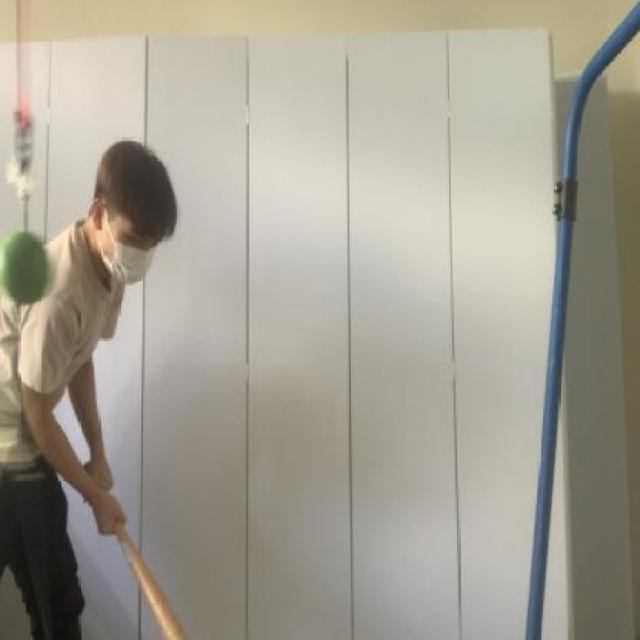baseball: (3, 234, 49, 308)
